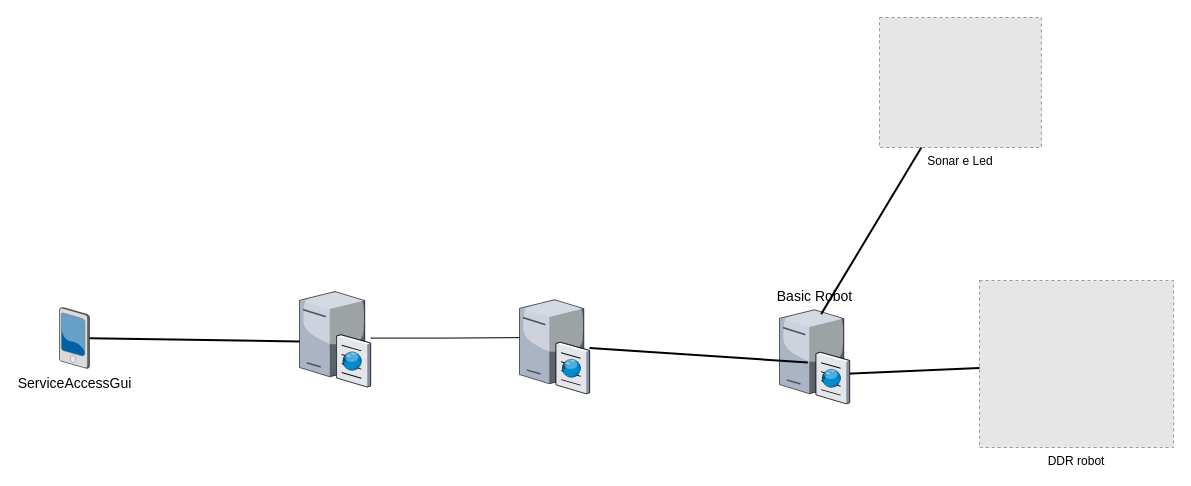
The diagram is 1191 pixels wide and 486 high, and some of its shapes have lost their labels. Grey dashed boxes stand in for pictures. The shapes that lost their labels are listed below. From the top down, each one's box as (x1, y1, x2, y2) in pixels, then its label:
(299, 289, 370, 386): ColdStorageService
(519, 297, 589, 393): Transport Trolley
